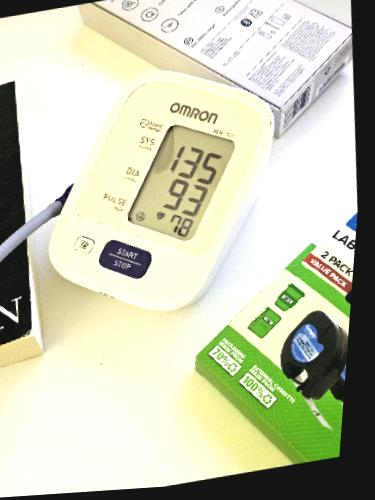bpm: (124, 113, 238, 251)
